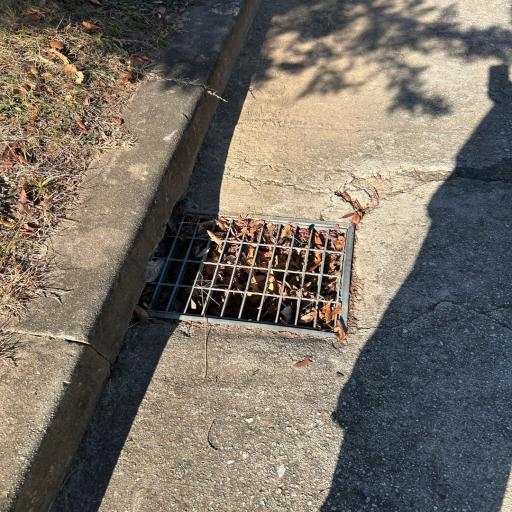debris: (207, 218, 309, 299), (306, 229, 345, 291), (300, 295, 338, 330), (295, 228, 310, 258), (171, 275, 180, 296), (235, 281, 242, 288), (314, 292, 321, 298), (269, 305, 277, 309)
drain: (153, 216, 347, 330)
